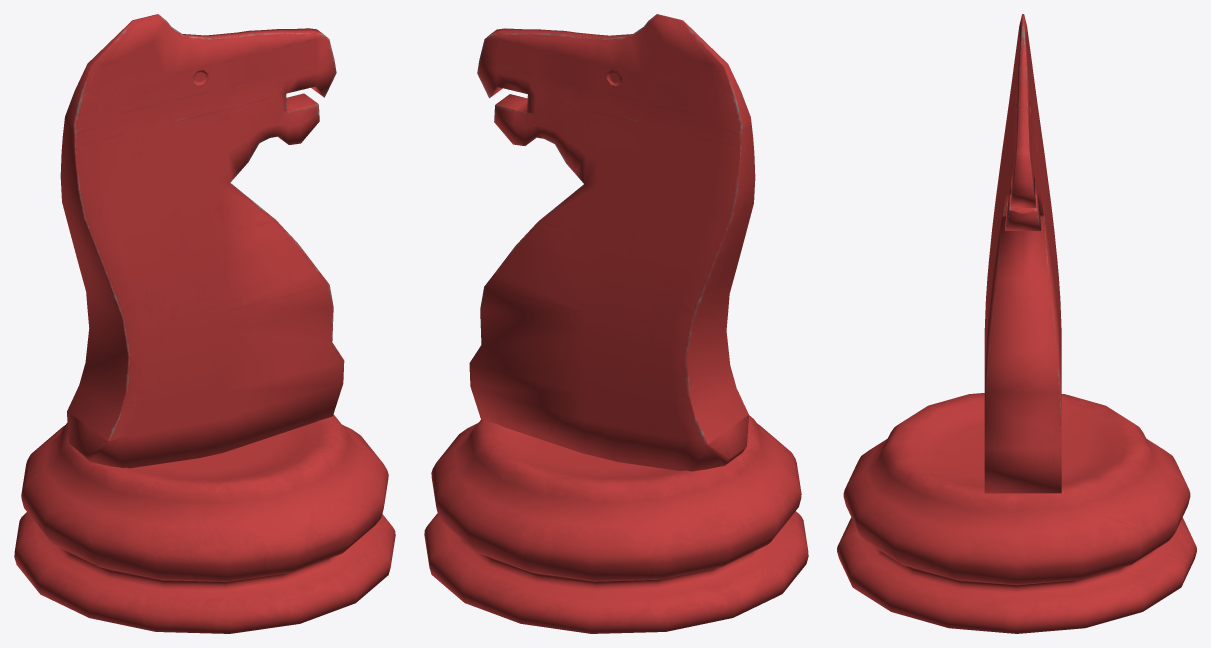
File: knight.glb
3 renders of one model, left to right at view 1: azimuth 30°, elevation 25°; view 2: azimuth 150°, elevation 25°; view 3: azimuth 270°, elevation 25°, orthographic. The views are drawn at different scales.
Visible parts, largest first — view 1: knight.b.001; view 2: knight.b.001; view 3: knight.b.001.
Part boxes in pixels (box(x1,y1,x2,y2)): knight.b.001: box(14, 14, 395, 633); knight.b.001: box(424, 14, 808, 633); knight.b.001: box(837, 14, 1196, 633).
Bounding box in the file's own units: 1.4 × 2.27 × 1.4.
1 material, 1 textured.
